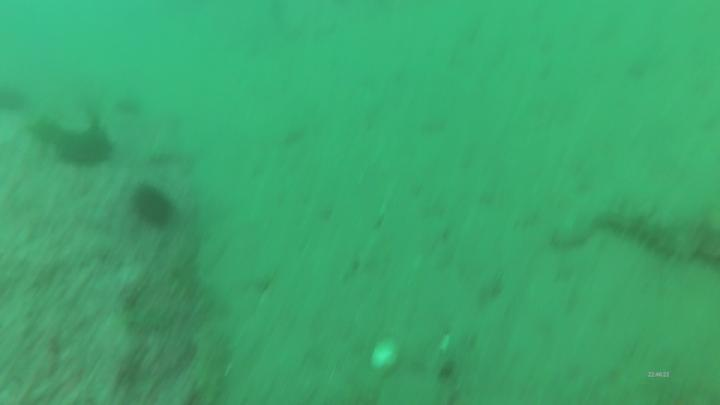echinus: (50, 127, 114, 169), (130, 181, 175, 232), (1, 83, 32, 116)
holothurian: (603, 197, 720, 271)
